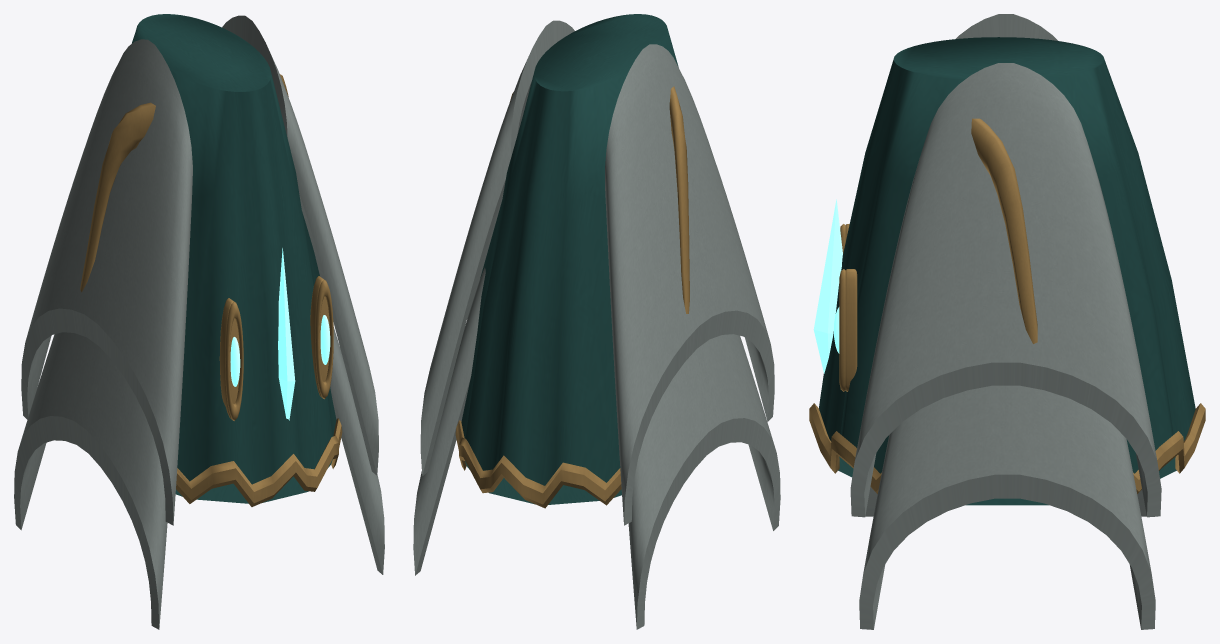
Rendered from hero_soulbinder_mantle.glb.
The picture shows the model from 3 angles, left to right: view 1: azimuth 30°, elevation 25°; view 2: azimuth 150°, elevation 25°; view 3: azimuth 270°, elevation 25°; orthographic projection. The views are drawn at different scales.
Parts seen in each view (by area): view 1: hero_soulbinder_mantle funerary tarnished silver, hero_soulbinder_mantle soulbinder petrol velvet, hero_soulbinder_mantle dull relic gold, hero_soulbinder_mantle bound soul jade; view 2: hero_soulbinder_mantle funerary tarnished silver, hero_soulbinder_mantle soulbinder petrol velvet, hero_soulbinder_mantle dull relic gold; view 3: hero_soulbinder_mantle funerary tarnished silver, hero_soulbinder_mantle soulbinder petrol velvet, hero_soulbinder_mantle dull relic gold, hero_soulbinder_mantle bound soul jade.
Part boxes in pixels (bbox=[...]): hero_soulbinder_mantle funerary tarnished silver: bbox=[14, 15, 384, 629]; hero_soulbinder_mantle soulbinder petrol velvet: bbox=[132, 14, 336, 503]; hero_soulbinder_mantle dull relic gold: bbox=[80, 74, 342, 506]; hero_soulbinder_mantle bound soul jade: bbox=[230, 248, 330, 420]; hero_soulbinder_mantle funerary tarnished silver: bbox=[413, 20, 780, 629]; hero_soulbinder_mantle soulbinder petrol velvet: bbox=[461, 14, 678, 504]; hero_soulbinder_mantle dull relic gold: bbox=[455, 86, 689, 508]; hero_soulbinder_mantle funerary tarnished silver: bbox=[850, 14, 1161, 629]; hero_soulbinder_mantle soulbinder petrol velvet: bbox=[819, 37, 1195, 505]; hero_soulbinder_mantle dull relic gold: bbox=[809, 118, 1205, 493]; hero_soulbinder_mantle bound soul jade: bbox=[813, 199, 842, 373].
Bounding box in the file's own units: 1.17 × 2.44 × 1.64.
4 materials, 3 textured.
